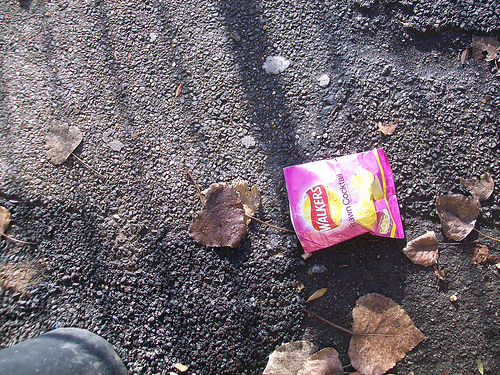litter: (282, 148, 405, 251)
